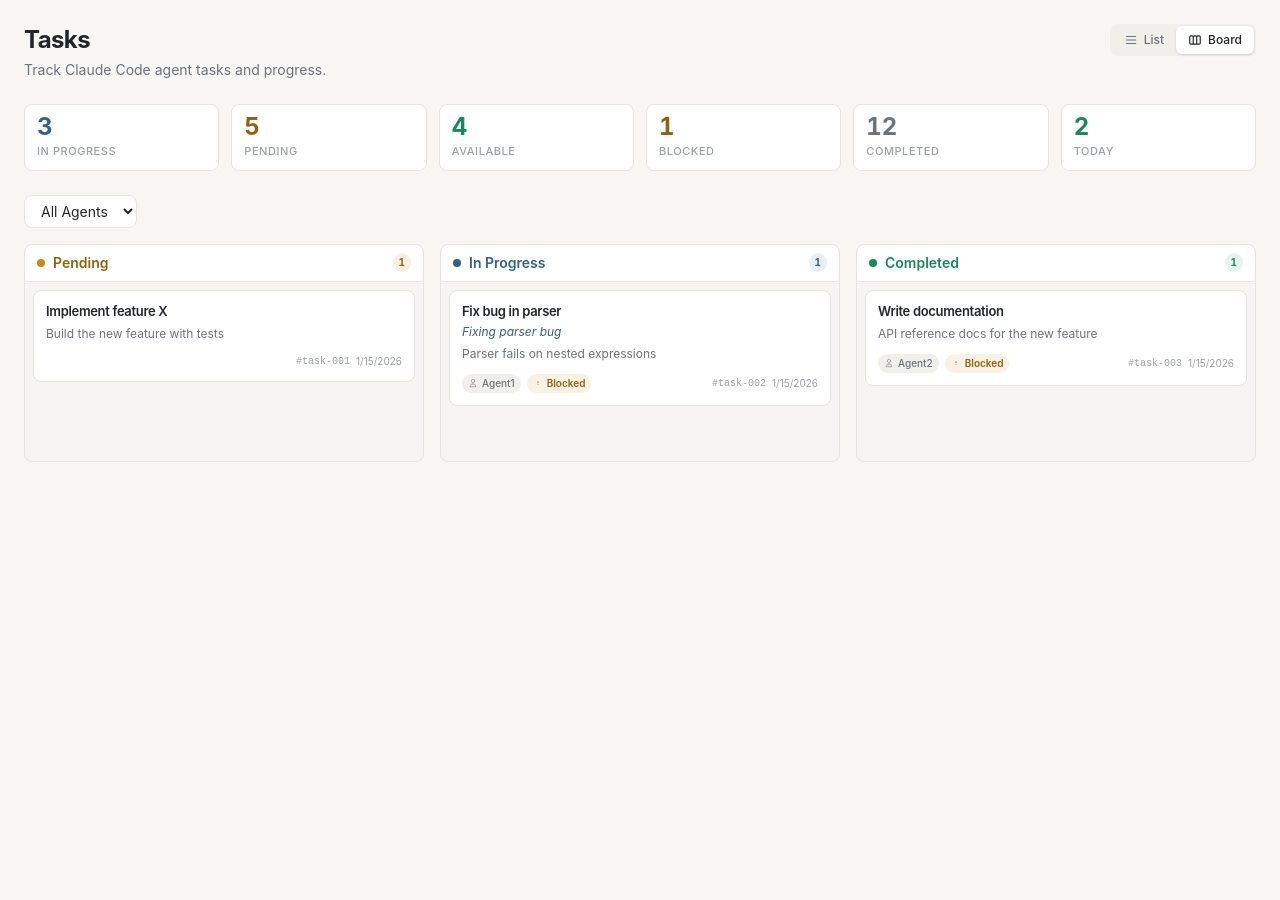
Test: TasksPage — Board View › closes detail panel on Escape key
Click the heading "Implement feature X" at (107, 310), box top-left (46, 302), bottom-right (167, 318)
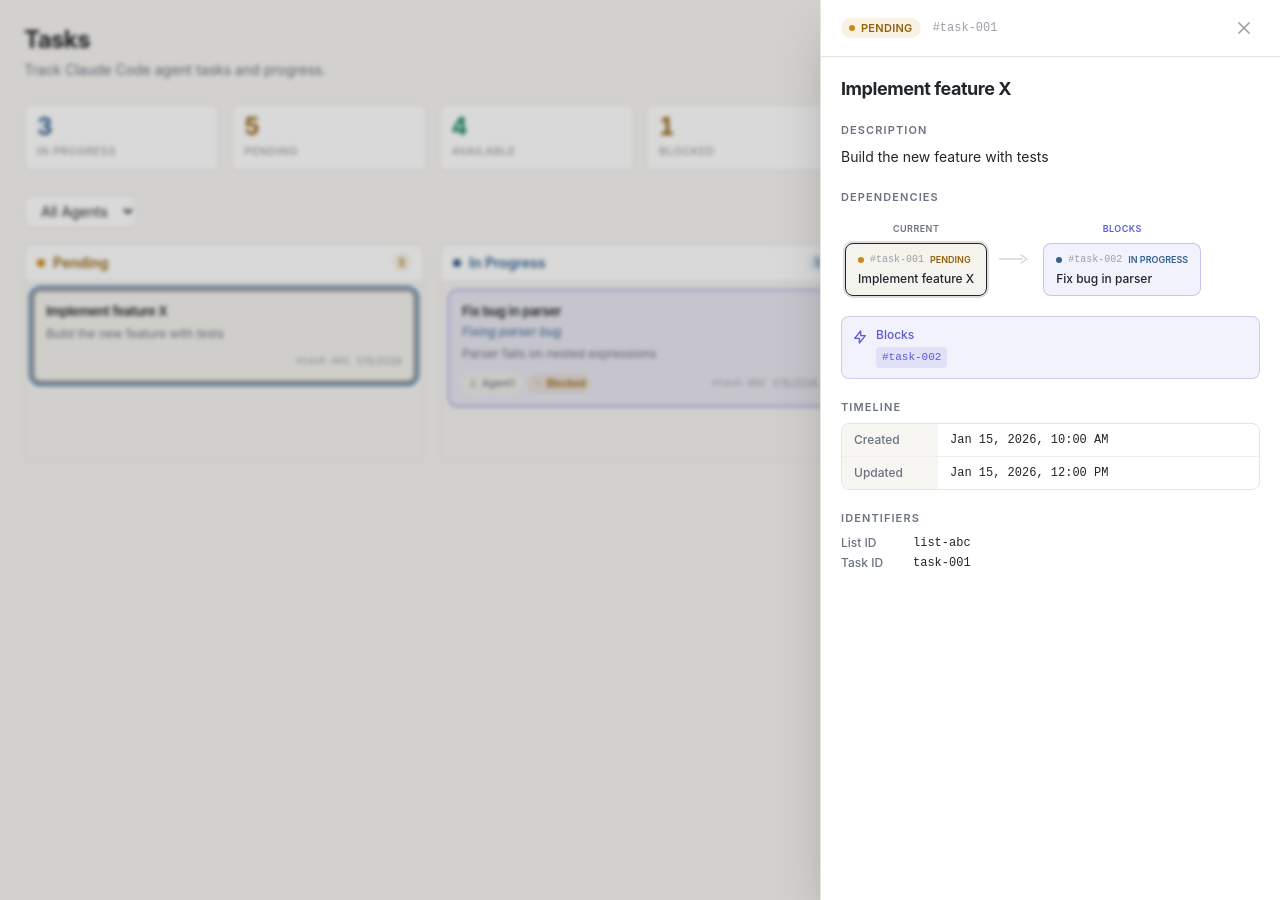
Now the heading "Timeline" is shown, box top-left (841, 400), bottom-right (901, 414)
Press Escape
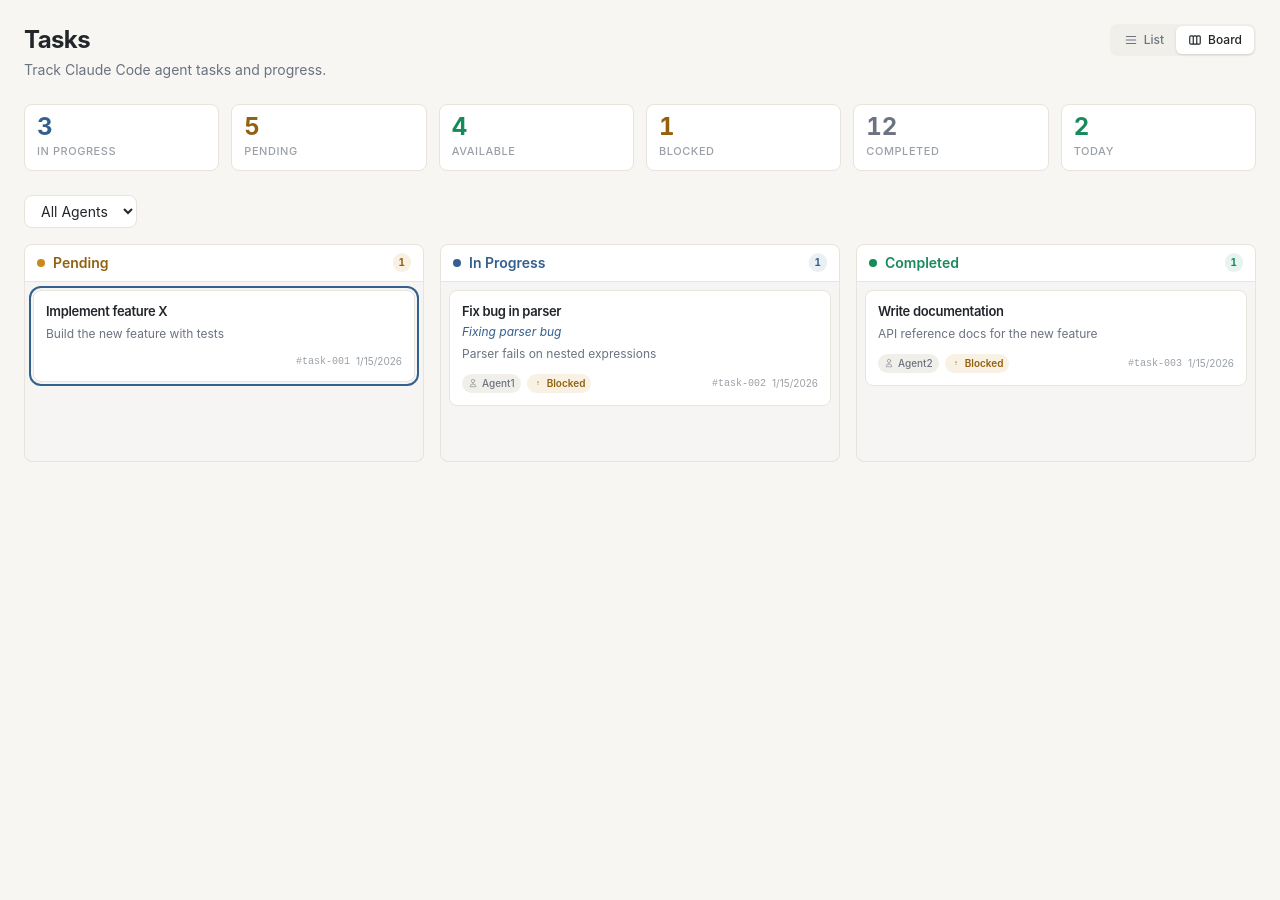
Now the heading "Timeline" is gone
